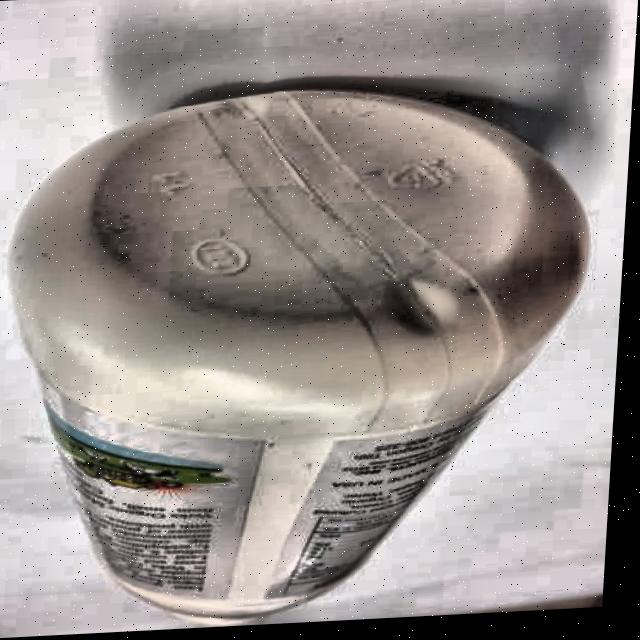plastic: (0, 71, 600, 639)
